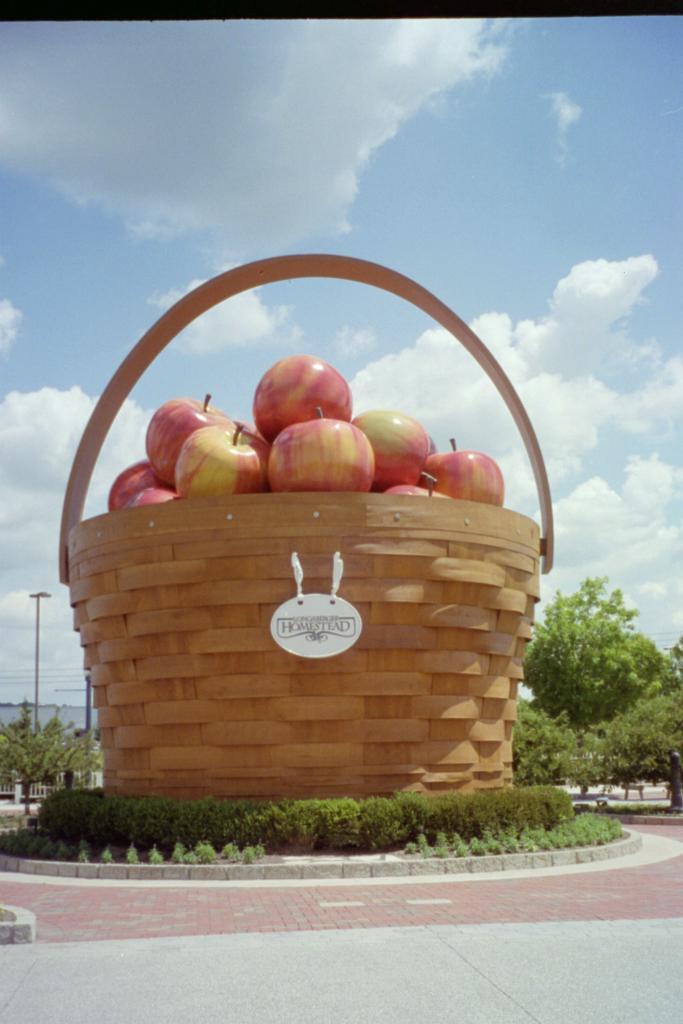Apple: (111, 348, 500, 502), (261, 418, 386, 494)
